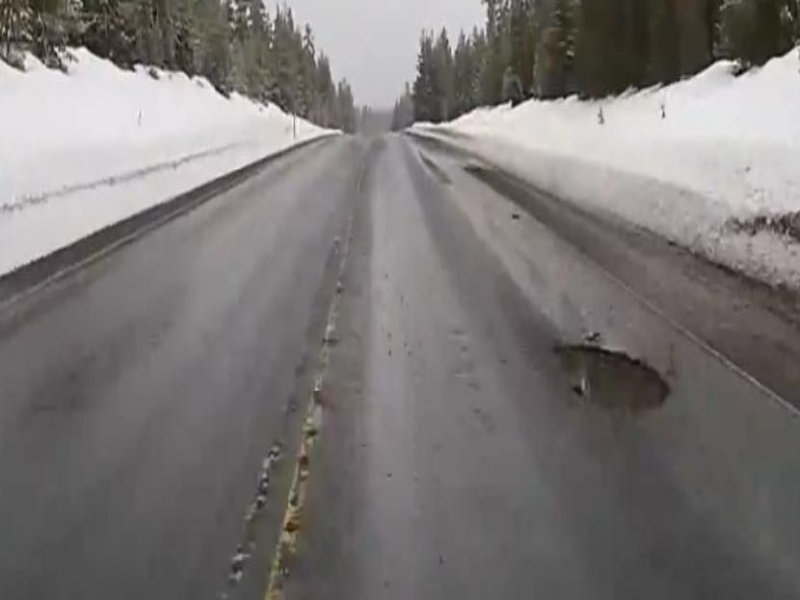pothole: (547, 340, 671, 418)
